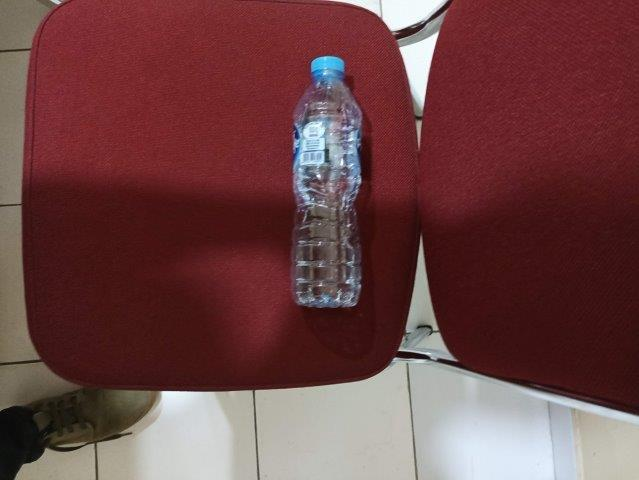botolplastik: (292, 54, 361, 304)
